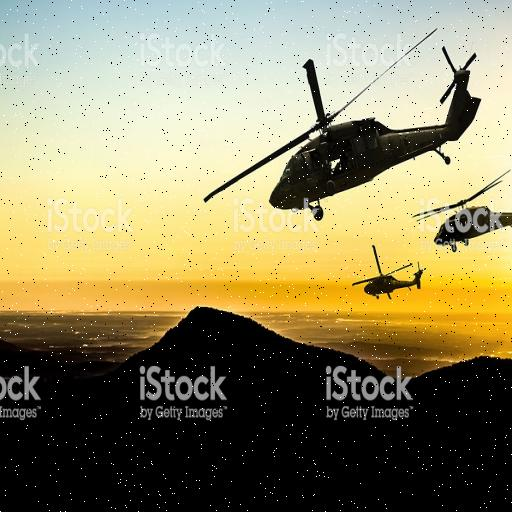helicopter: (198, 31, 486, 223), (418, 172, 512, 247), (351, 246, 430, 297)
